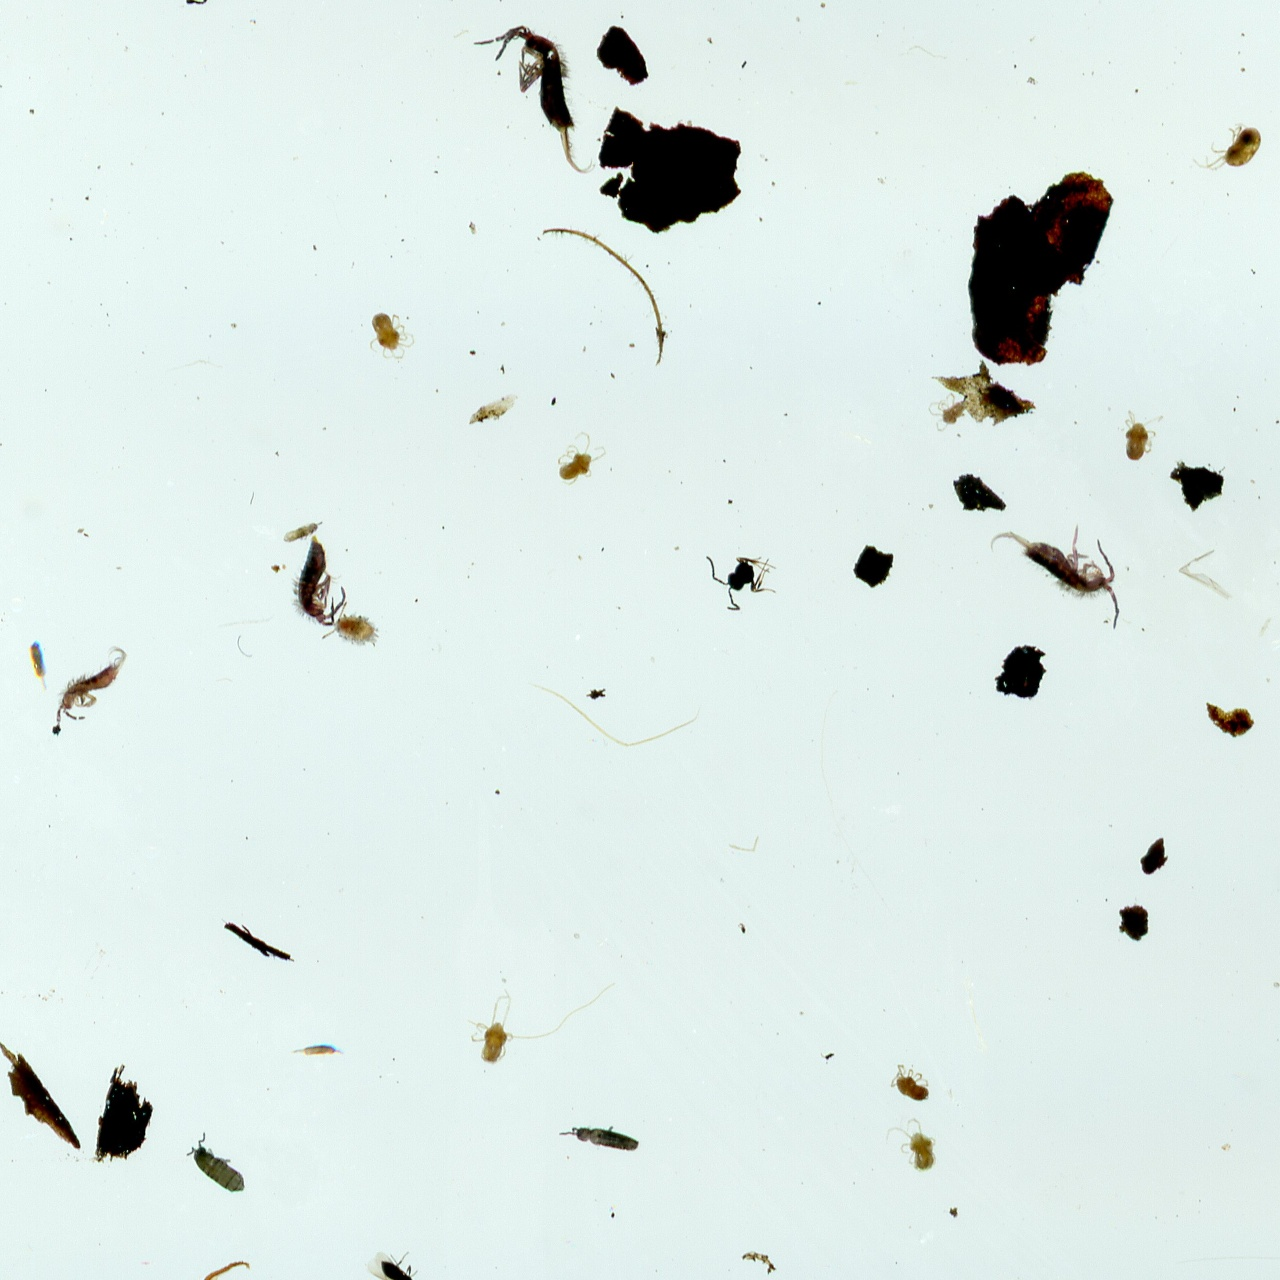arthropod: (468, 16, 600, 182), (989, 523, 1122, 632), (463, 980, 620, 1069), (172, 1123, 260, 1214), (52, 641, 130, 734), (288, 533, 348, 628), (319, 598, 389, 667), (702, 551, 777, 613), (1189, 120, 1265, 178), (883, 1114, 938, 1175), (553, 1121, 642, 1158), (556, 430, 607, 488), (1121, 406, 1166, 463), (363, 1245, 436, 1280), (367, 311, 417, 361), (888, 1061, 931, 1104), (927, 390, 969, 433), (25, 635, 53, 695), (115, 0, 252, 12), (279, 517, 326, 545), (288, 1042, 348, 1060)
